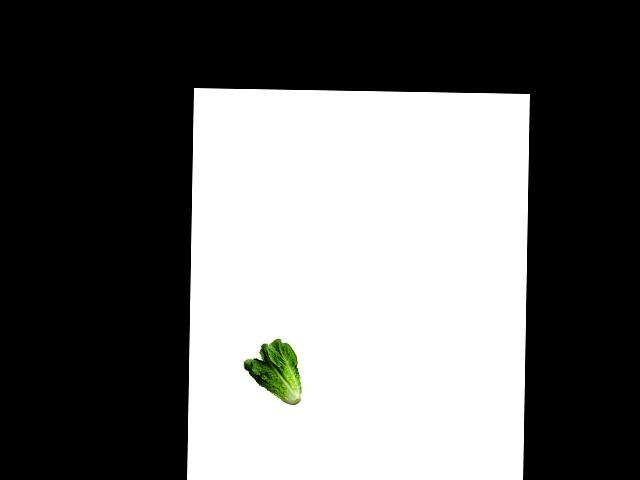lettuce: (240, 338, 307, 409)
